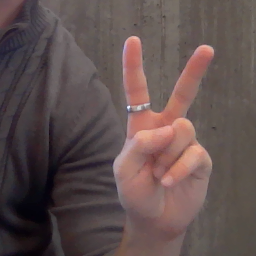V: (111, 33, 219, 227)
